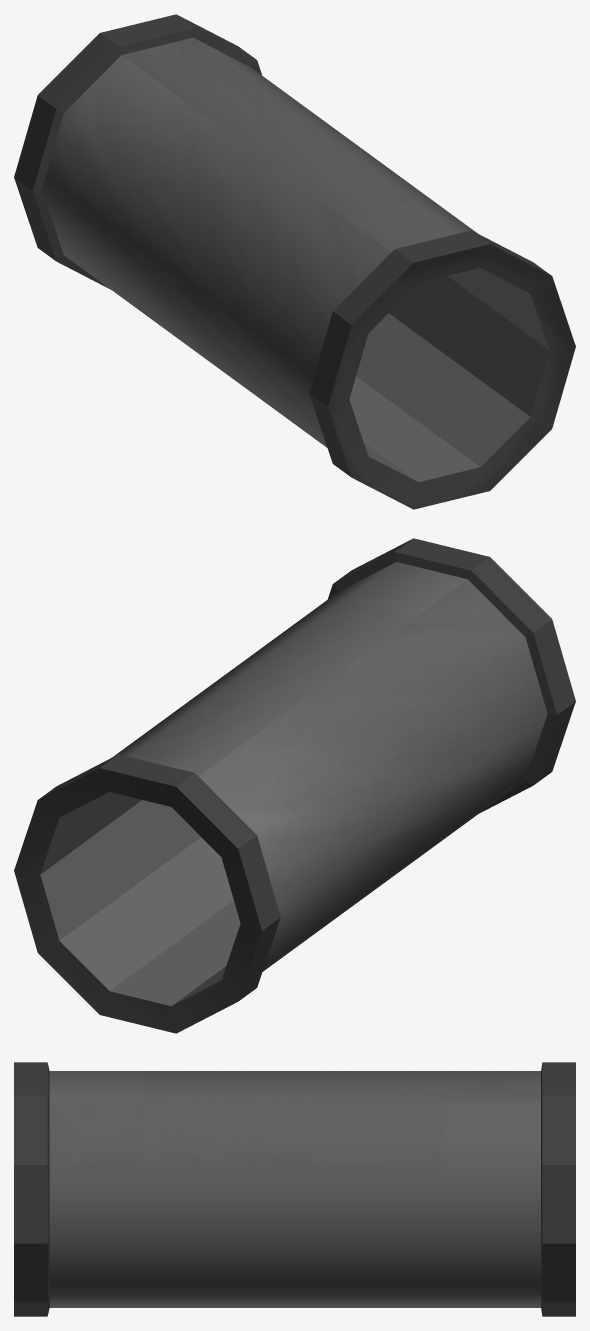
File: pipe minigame.fbx
The picture shows the model from 3 angles, top to bottom: view 1: azimuth 30°, elevation 25°; view 2: azimuth 150°, elevation 25°; view 3: azimuth 270°, elevation 25°; orthographic projection. The views are drawn at different scales.
Visible parts, largest first — view 1: pipe_minigame; view 2: pipe_minigame; view 3: pipe_minigame.
Part boxes in pixels (<box>): pipe_minigame: <box>14,14,575,509</box>; pipe_minigame: <box>14,538,575,1033</box>; pipe_minigame: <box>14,1062,575,1316</box>.
Size of the model in its own units: 48.53 by 46.15 by 106.
Materials: 1 (1 with a texture image).
